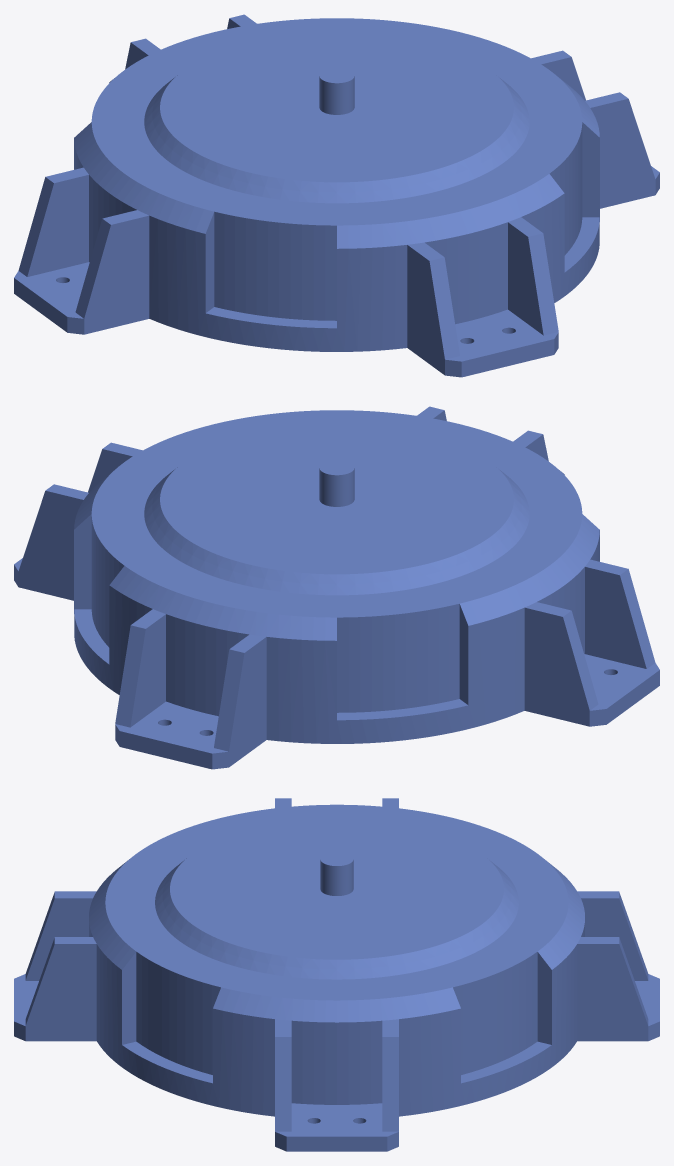
3 views of the same model, one above another, from view 1: azimuth 30°, elevation 25°; view 2: azimuth 150°, elevation 25°; view 3: azimuth 270°, elevation 25° (orthographic). The views are drawn at different scales.
Visible parts, largest first — view 1: node0; view 2: node0; view 3: node0.
Part boxes in pixels (x1,y1,x2,y2): node0: (14,14,659,377); node0: (14,406,659,769); node0: (14,798,659,1151).
Size of the model in its own units: 0.3905 by 0.3905 by 0.104.
